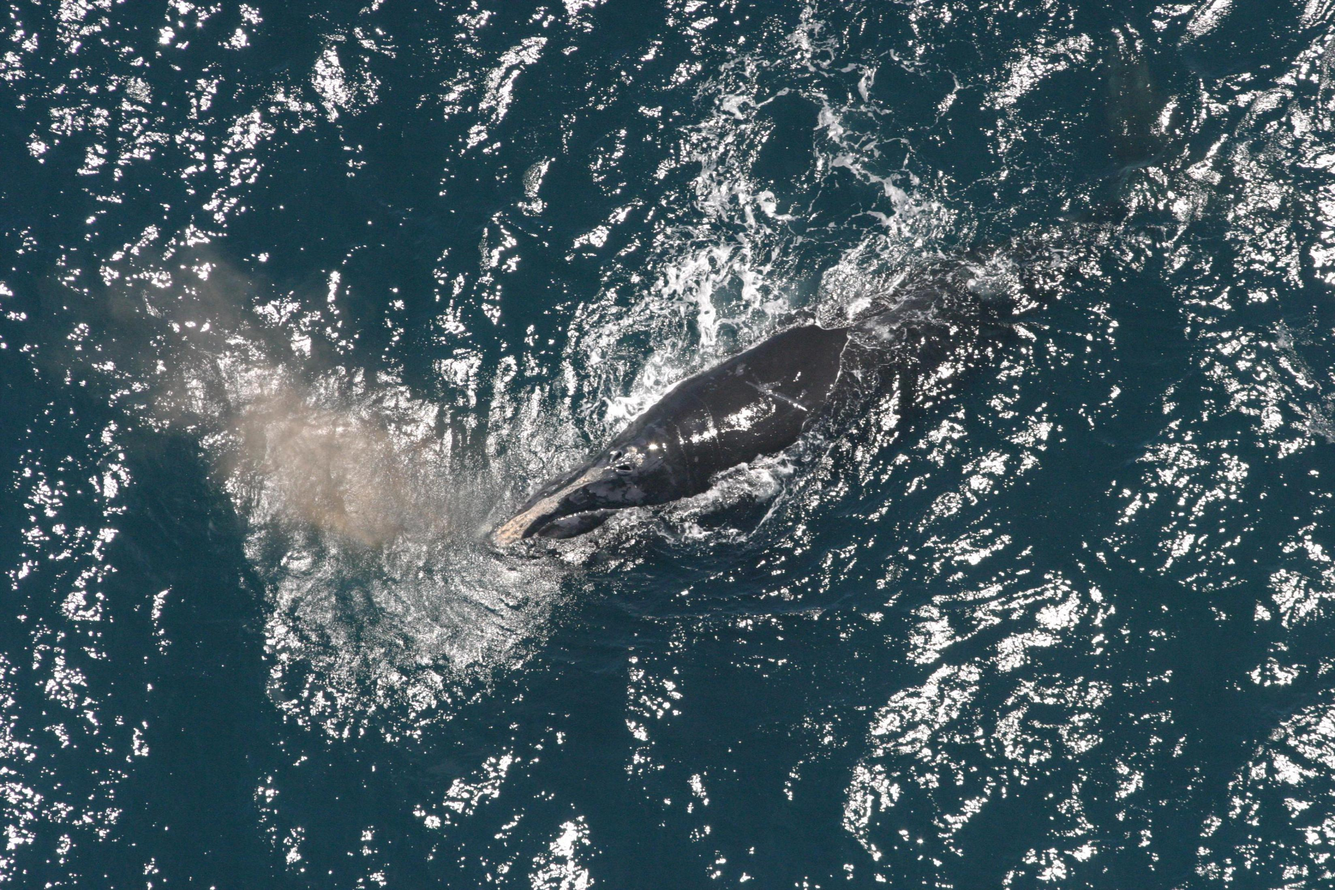whale: (468, 29, 1265, 573)
